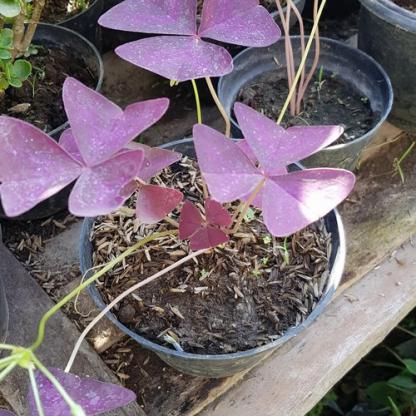Kupu-Kupu: (7, 84, 158, 221), (200, 108, 357, 235), (94, 1, 293, 89), (182, 193, 246, 261)
